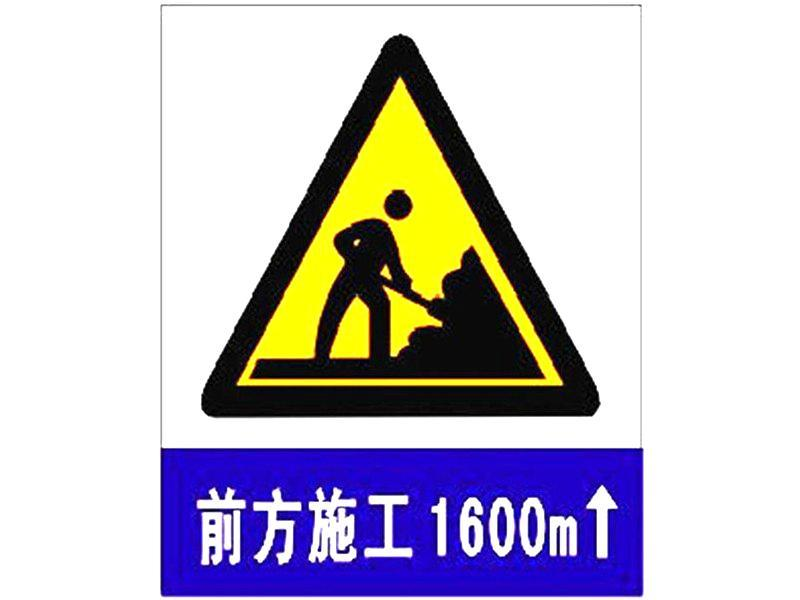sign: (163, 9, 638, 576)
